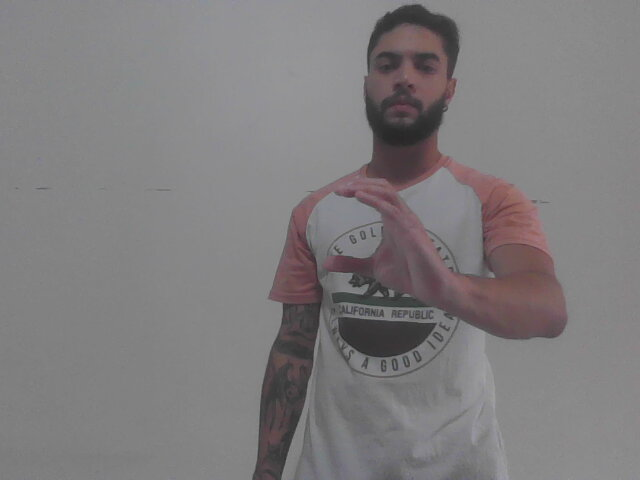c: (319, 170, 456, 315)
